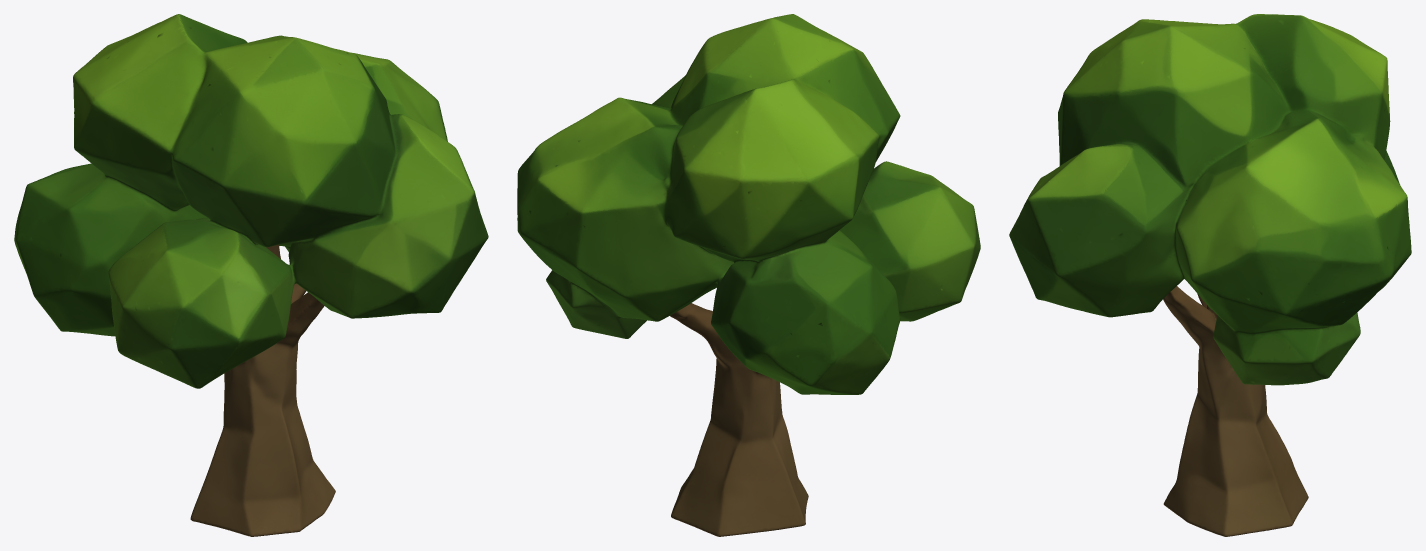
The model's file is tree1.glb.
The picture shows the model from 3 angles, left to right: view 1: azimuth 30°, elevation 25°; view 2: azimuth 150°, elevation 25°; view 3: azimuth 270°, elevation 25°; orthographic projection. The views are drawn at different scales.
Visible parts, largest first — view 1: world; view 2: world; view 3: world.
Part boxes in pixels (bbox=[...]): world: bbox=[14, 14, 488, 536]; world: bbox=[517, 14, 980, 536]; world: bbox=[1009, 14, 1411, 536].
Bounding box in the file's own units: 0.831 × 1 × 0.7616.
Materials: 1 (1 with a texture image).
